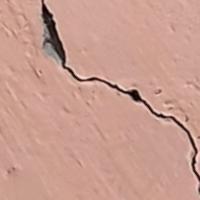crack: (37, 0, 199, 193)
